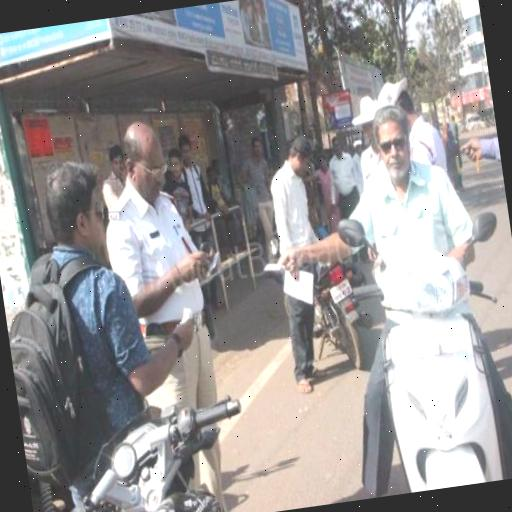no helmet: (349, 96, 488, 492)
